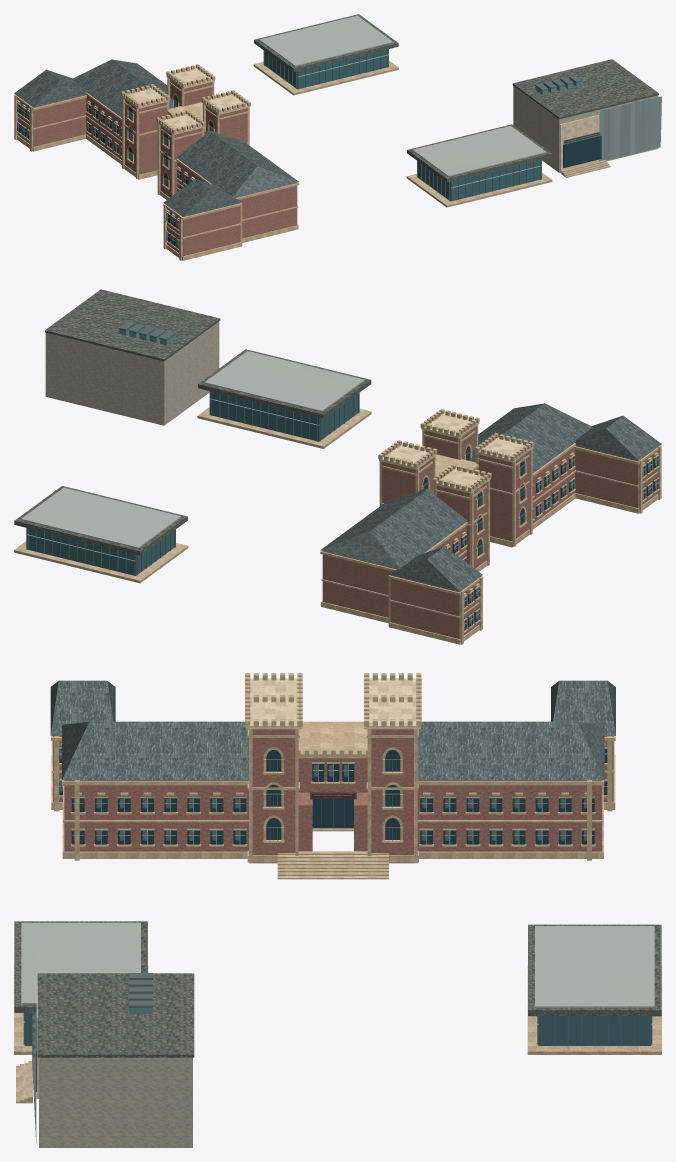
The model's file is washu.glb.
3 views of the same model, one above another, from view 1: azimuth 30°, elevation 25°; view 2: azimuth 150°, elevation 25°; view 3: azimuth 270°, elevation 25° (orthographic). The views are drawn at different scales.
Parts seen in each view (by area): view 1: Brookings Hall and Danforth East End · Granite, Brookings Hall and Danforth East End · Slate, Brookings Hall and Danforth East End · Limestone, Brookings Hall and Danforth East End · Light metal, Brookings Hall and Danforth East End · Charcoal concrete, Brookings Hall and Danforth East End · Glass, Brookings Hall and Danforth East End · Ivory, Brookings Hall and Danforth East End · White concrete, Brookings Hall and Danforth East End · Terrace, Brookings Hall and Danforth East End · Stainless, Brookings Hall and Danforth East End · Glass dark, Brookings Hall and Danforth East End · Steel (+2 smaller); view 2: Brookings Hall and Danforth East End · Granite, Brookings Hall and Danforth East End · Slate, Brookings Hall and Danforth East End · Limestone, Brookings Hall and Danforth East End · Light metal, Brookings Hall and Danforth East End · White concrete, Brookings Hall and Danforth East End · Charcoal concrete, Brookings Hall and Danforth East End · Glass, Brookings Hall and Danforth East End · Terrace, Brookings Hall and Danforth East End · Steel, Brookings Hall and Danforth East End · Ivory, Brookings Hall and Danforth East End · Glass dark, Brookings Hall and Danforth East End · Glass light; view 3: Brookings Hall and Danforth East End · Granite, Brookings Hall and Danforth East End · Slate, Brookings Hall and Danforth East End · Limestone, Brookings Hall and Danforth East End · Light metal, Brookings Hall and Danforth East End · Charcoal concrete, Brookings Hall and Danforth East End · White concrete, Brookings Hall and Danforth East End · Glass dark, Brookings Hall and Danforth East End · Ivory, Brookings Hall and Danforth East End · Glass, Brookings Hall and Danforth East End · Terrace, Brookings Hall and Danforth East End · Steel, Brookings Hall and Danforth East End · Glass light.
Part boxes in pixels (x1,y1,x2,y2): Brookings Hall and Danforth East End · Granite: [17, 79, 297, 256]; Brookings Hall and Danforth East End · Slate: [14, 59, 298, 216]; Brookings Hall and Danforth East End · Limestone: [14, 64, 299, 260]; Brookings Hall and Danforth East End · Light metal: [17, 15, 546, 248]; Brookings Hall and Danforth East End · Charcoal concrete: [254, 14, 658, 182]; Brookings Hall and Danforth East End · Glass: [263, 49, 541, 201]; Brookings Hall and Danforth East End · Ivory: [121, 67, 598, 173]; Brookings Hall and Danforth East End · White concrete: [513, 86, 658, 172]; Brookings Hall and Danforth East End · Terrace: [253, 60, 610, 207]; Brookings Hall and Danforth East End · Stainless: [604, 96, 661, 160]; Brookings Hall and Danforth East End · Glass dark: [17, 95, 601, 249]; Brookings Hall and Danforth East End · Steel: [128, 49, 582, 201]; Brookings Hall and Danforth East End · Granite: [322, 427, 657, 638]; Brookings Hall and Danforth East End · Slate: [320, 403, 661, 591]; Brookings Hall and Danforth East End · Limestone: [320, 409, 661, 644]; Brookings Hall and Danforth East End · Light metal: [21, 351, 658, 630]; Brookings Hall and Danforth East End · White concrete: [45, 321, 219, 425]; Brookings Hall and Danforth East End · Charcoal concrete: [14, 289, 371, 555]; Brookings Hall and Danforth East End · Glass: [26, 391, 359, 575]; Brookings Hall and Danforth East End · Terrace: [14, 407, 371, 583]; Brookings Hall and Danforth East End · Steel: [27, 321, 525, 575]; Brookings Hall and Danforth East End · Ivory: [379, 413, 533, 493]; Brookings Hall and Danforth East End · Glass dark: [423, 446, 658, 630]; Brookings Hall and Danforth East End · Glass light: [119, 325, 656, 627]; Brookings Hall and Danforth East End · Granite: [53, 729, 613, 863]; Brookings Hall and Danforth East End · Slate: [50, 680, 615, 779]; Brookings Hall and Danforth East End · Limestone: [51, 673, 615, 879]; Brookings Hall and Danforth East End · Light metal: [21, 753, 654, 1025]; Brookings Hall and Danforth East End · Charcoal concrete: [14, 921, 661, 1057]; Brookings Hall and Danforth East End · White concrete: [39, 1057, 192, 1147]; Brookings Hall and Danforth East End · Glass dark: [36, 746, 607, 1091]; Brookings Hall and Danforth East End · Ivory: [36, 678, 420, 1098]; Brookings Hall and Danforth East End · Glass: [24, 1013, 651, 1045]; Brookings Hall and Danforth East End · Terrace: [14, 965, 661, 1103]; Brookings Hall and Danforth East End · Steel: [23, 759, 652, 1046]; Brookings Hall and Danforth East End · Glass light: [60, 749, 586, 1013].
Bounding box in the file's own units: 48.82 × 8.43 × 34.45.
19 materials, 11 textured.
